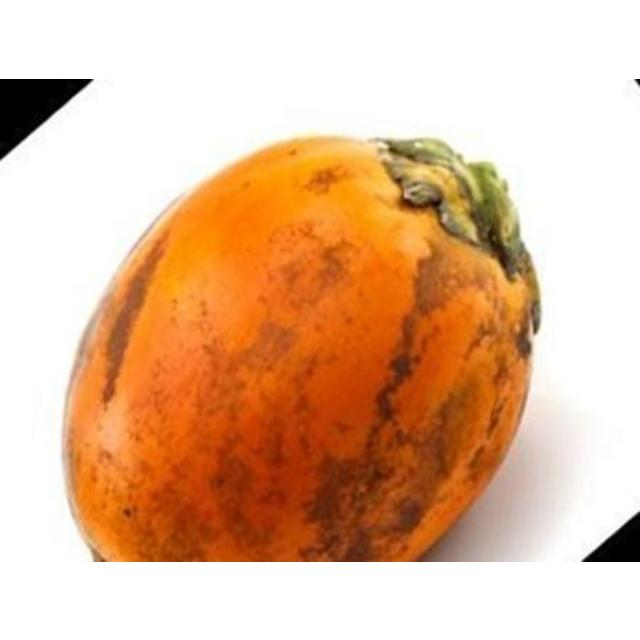good: (58, 136, 542, 560)
